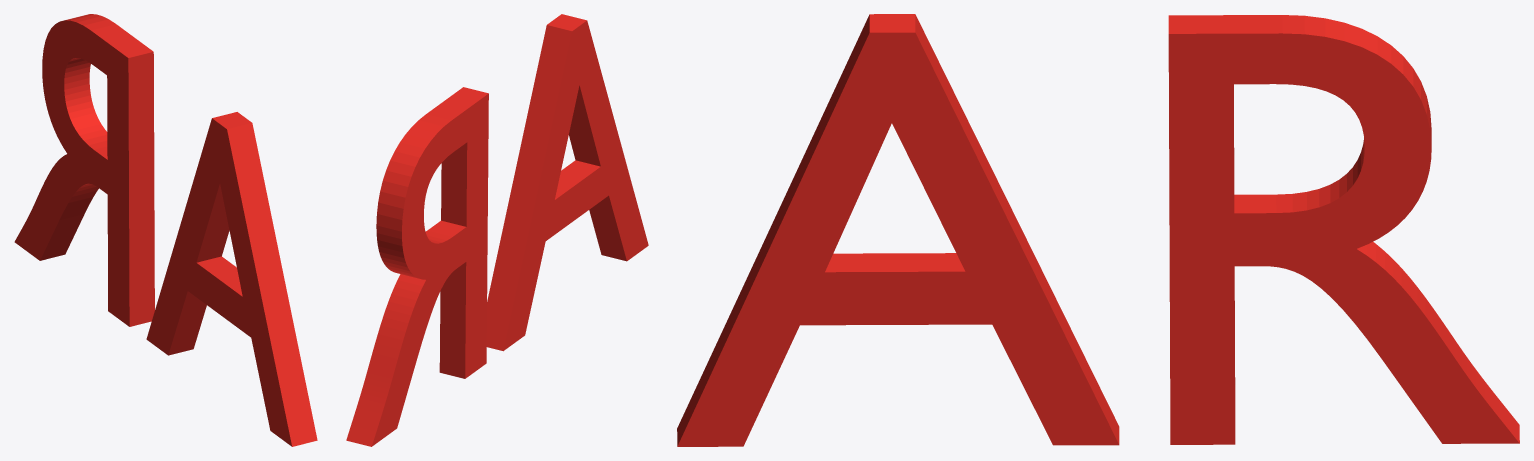
3 views of the same model, side by side, from view 1: azimuth 30°, elevation 25°; view 2: azimuth 150°, elevation 25°; view 3: azimuth 270°, elevation 25° (orthographic). The views are drawn at different scales.
Visible parts, largest first — view 1: Text; view 2: Text; view 3: Text.
Part boxes in pixels (left/top/right/bottom): Text: left=14, top=14, right=317, bottom=446; Text: left=346, top=14, right=648, bottom=446; Text: left=677, top=14, right=1519, bottom=446.
Size of the model in its own units: 0.0728 by 0.6879 by 1.27.
